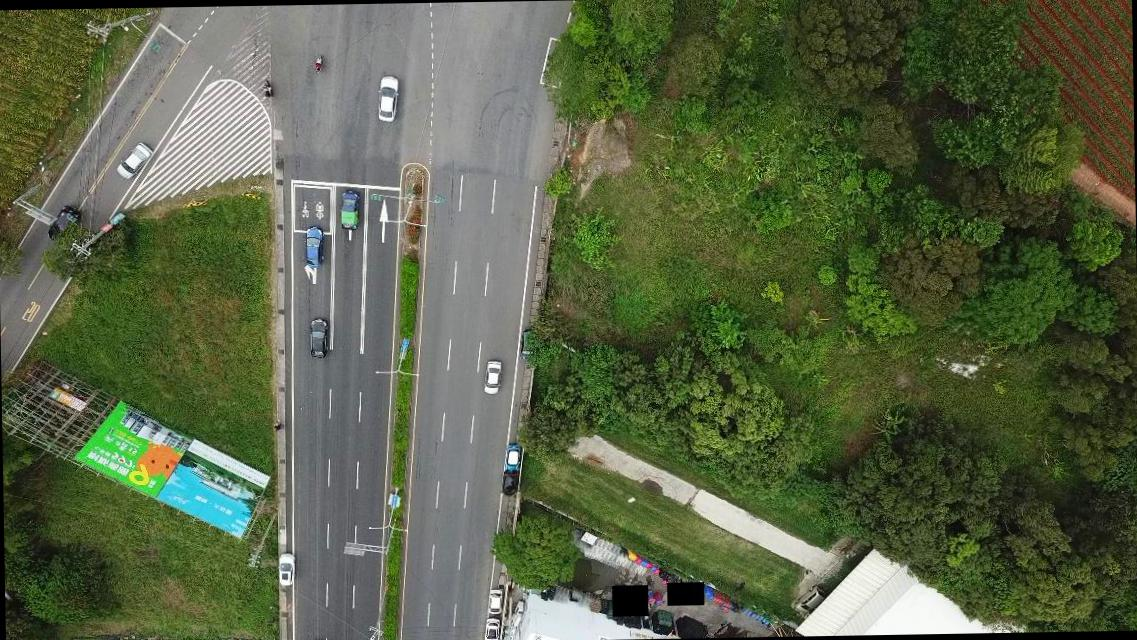vehicle: (46, 207, 83, 246), (114, 142, 152, 179), (376, 75, 400, 123), (792, 584, 827, 616), (306, 316, 330, 359), (336, 189, 360, 231), (482, 358, 502, 396), (275, 552, 297, 586), (305, 226, 322, 268), (518, 328, 539, 362), (486, 586, 506, 618), (501, 469, 520, 496), (504, 444, 522, 472), (482, 615, 501, 639)
